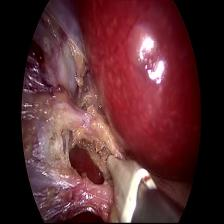Hook: (95, 137, 156, 221)
